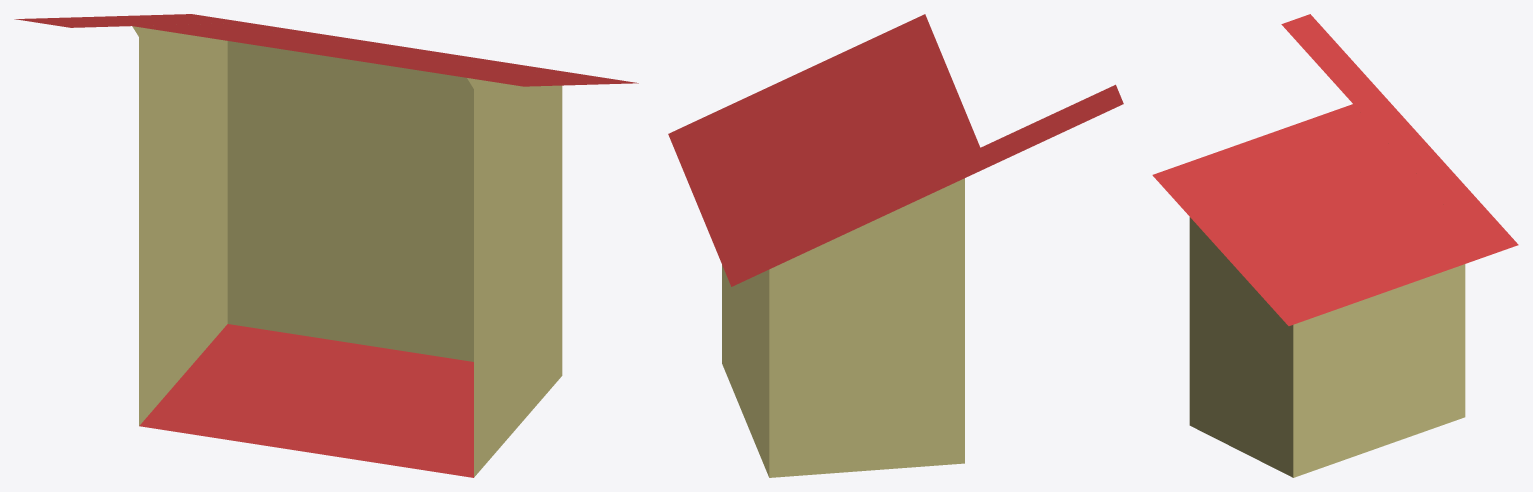
The picture shows the model from 3 angles, left to right: view 1: azimuth 30°, elevation 25°; view 2: azimuth 150°, elevation 25°; view 3: azimuth 270°, elevation 25°; orthographic projection. The views are drawn at different scales.
Size of the model in its own units: 11.62 by 9.65 by 8.71.
